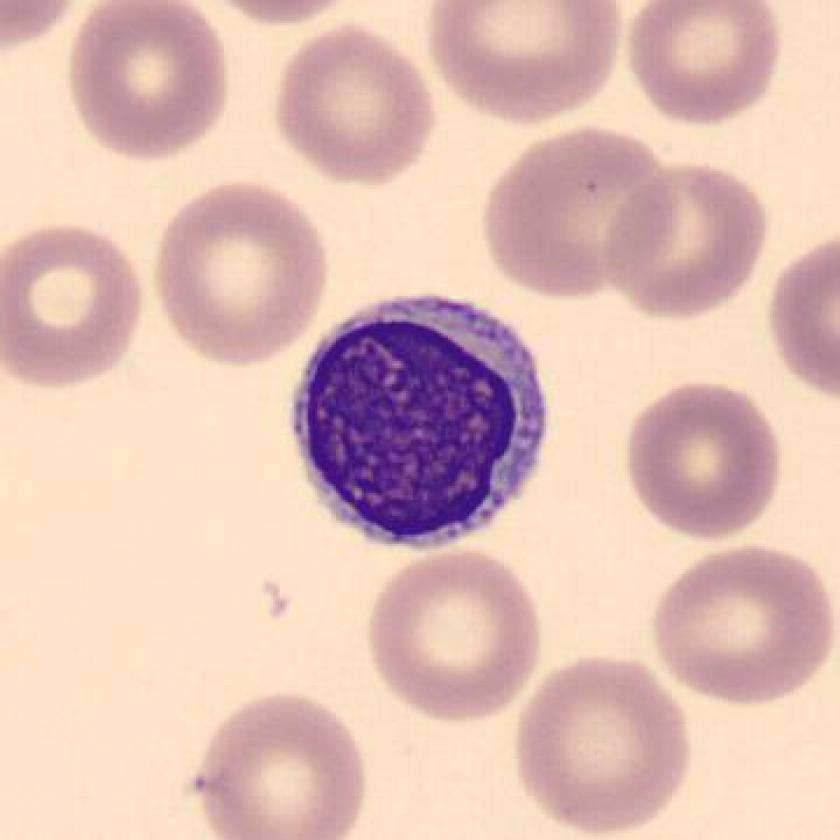lymphocyte: (269, 286, 566, 568)
